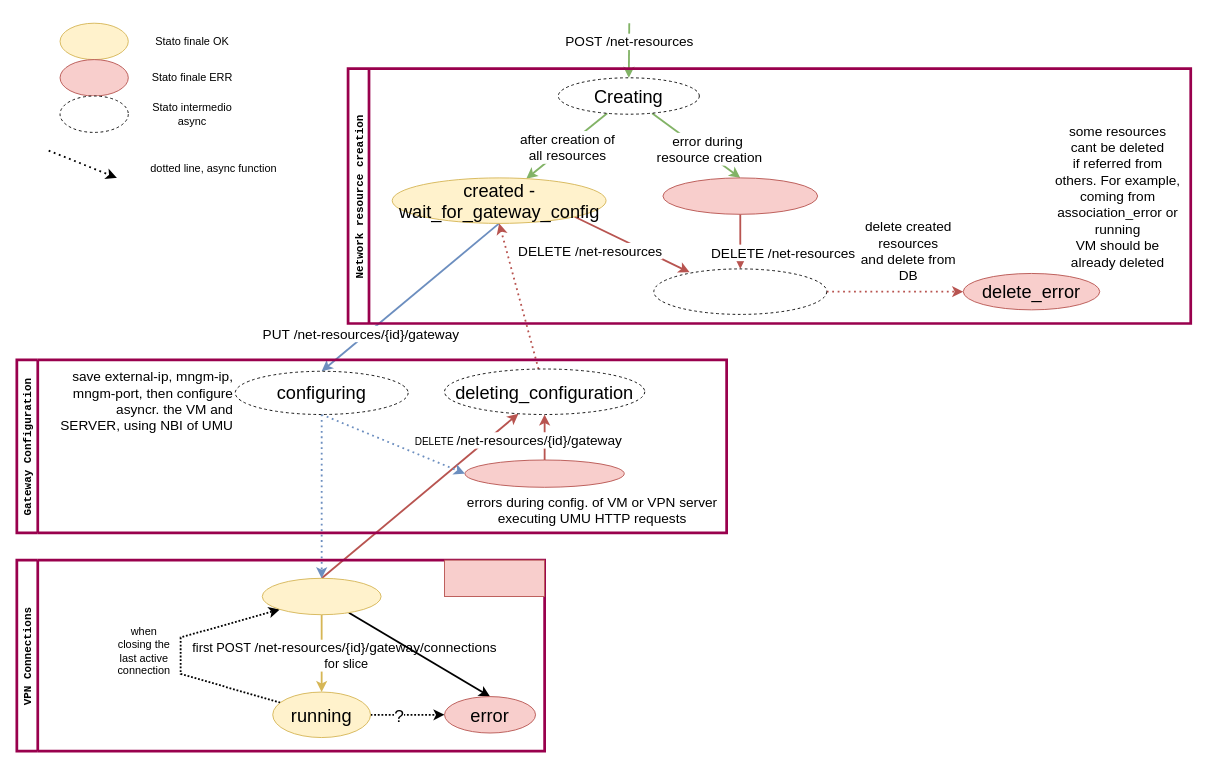
Image size: 1208x768. Some labels were removed from this diagram. Each missing label, with the centre of its shape:
configuration_error: point 544,473
creation_error: point 740,195
deleting_resources: point 740,291
ready: point 321,596
TBI: point 494,578
